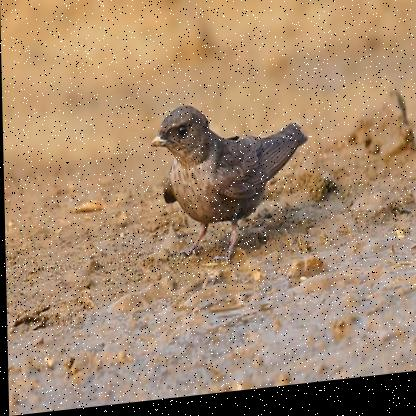Burung: (149, 100, 307, 279)
